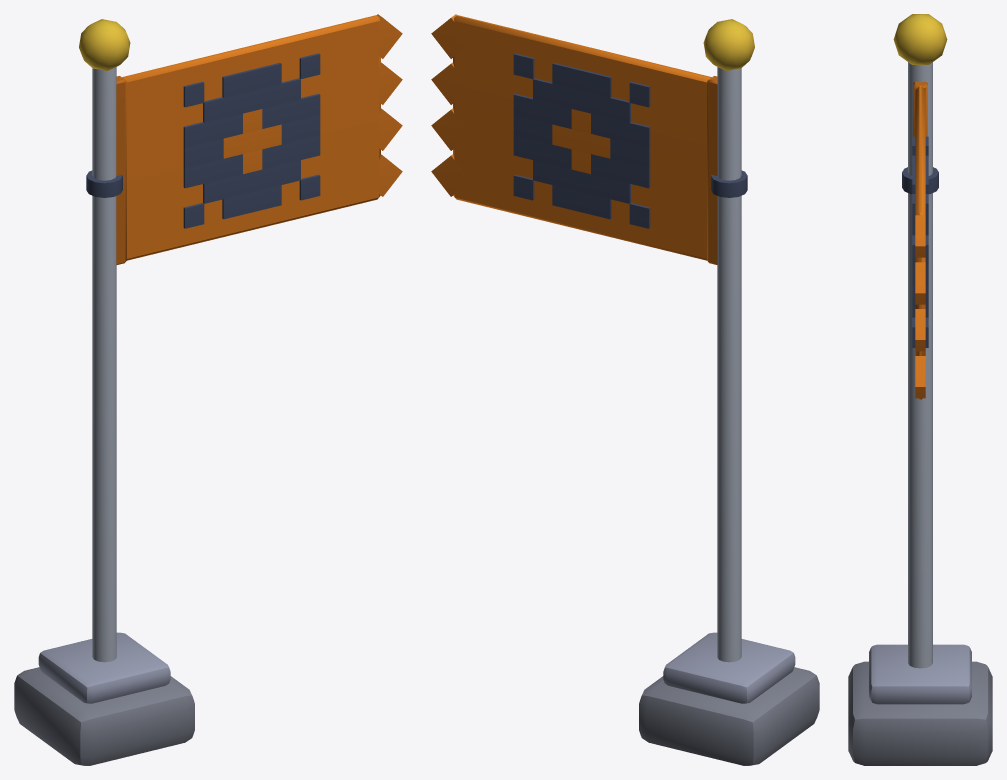
File: lo_flag_zahnrad.glb
3 renders of one model, left to right at view 1: azimuth 30°, elevation 25°; view 2: azimuth 150°, elevation 25°; view 3: azimuth 270°, elevation 25°, orthographic.
Visible parts, largest first — view 1: sway_cloth, body; view 2: sway_cloth, body; view 3: body, sway_cloth.
Boxes of the visible parts, x1,y1,x2,y2 form: sway_cloth: [116, 14, 402, 264]; body: [14, 19, 194, 765]; sway_cloth: [431, 14, 717, 264]; body: [639, 19, 819, 765]; body: [848, 14, 992, 765]; sway_cloth: [912, 81, 928, 399].
Bounding box in the file's own units: 2.03 × 3.88 × 0.7.
